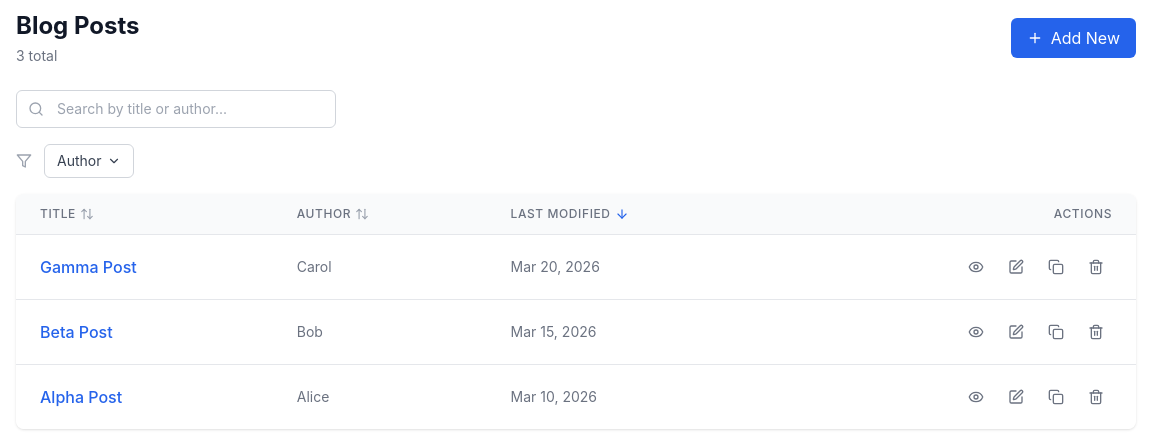
EntityListPage › search input filters entities by title
In the field with test id "search-input": coordinates (176, 109) [16,90,336,128], type "Alpha"
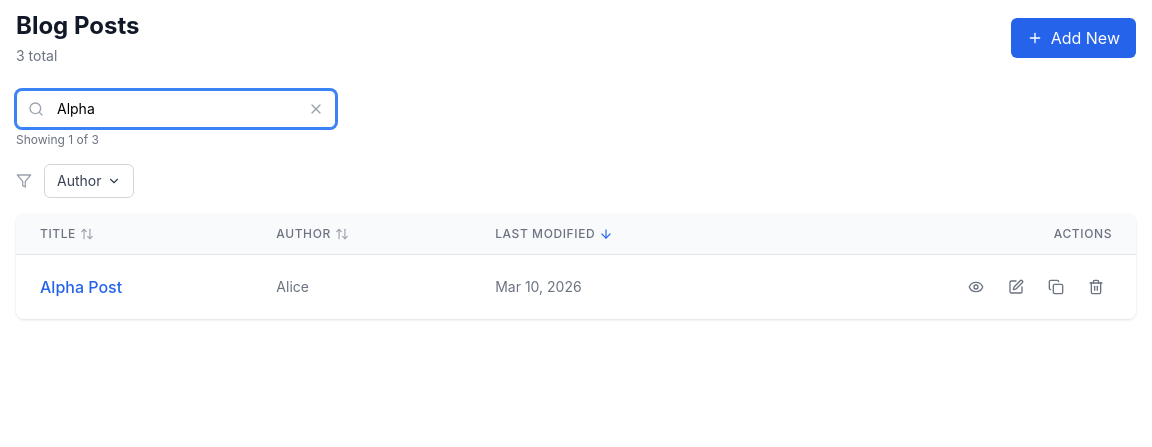
Expected: the link "Alpha Post" is shown, [40,275,122,299]
Now the link "Beta Post" is gone
Now the link "Gamma Post" is gone
